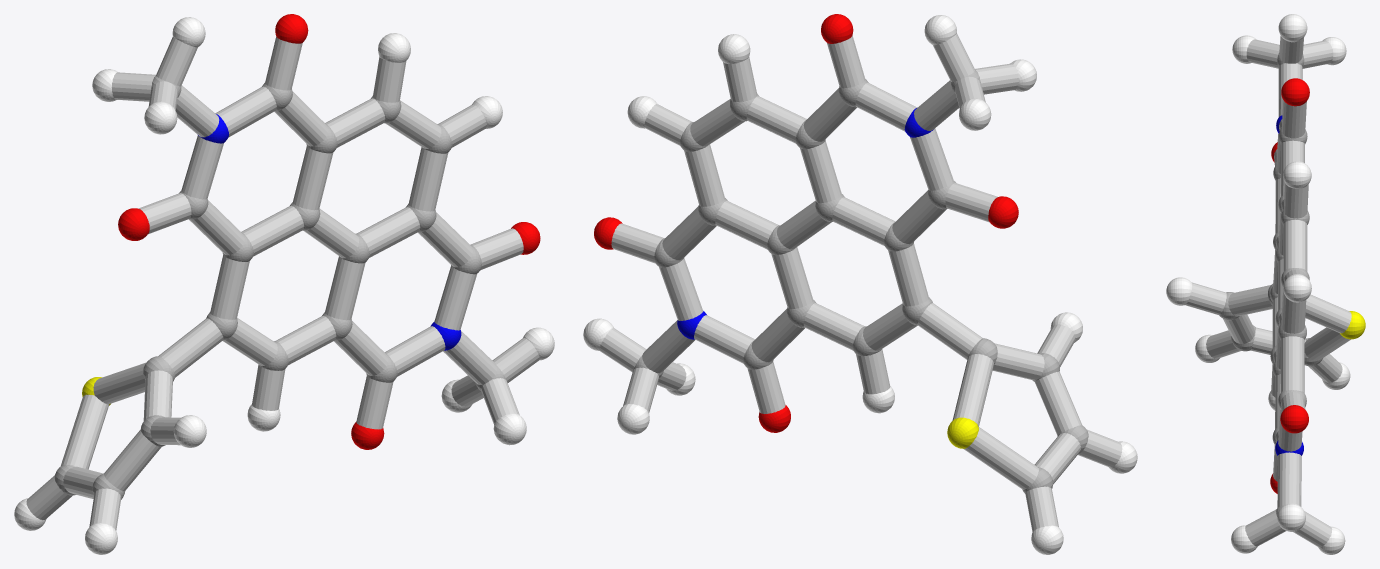
File: Dimethyl_Naphthalene_Dicarboximide_Phi_25_Theta_280_Thiophene.glb
3 views of the same model, side by side, from view 1: azimuth 30°, elevation 25°; view 2: azimuth 150°, elevation 25°; view 3: azimuth 270°, elevation 25° (orthographic). The views are drawn at different scales.
Parts seen in each view (by area): view 1: grp14119, grp7241, grp1, grp12309, grp11585; view 2: grp14119, grp7241, grp1, grp12309, grp13757, grp11585; view 3: grp14119, grp7241, grp1, grp12309, grp13757.
Part boxes in pixels (x1,y1,x2,y2): grp14119: [26, 36, 539, 530]; grp7241: [14, 17, 554, 554]; grp1: [54, 75, 506, 499]; grp12309: [118, 14, 540, 449]; grp11585: [198, 114, 461, 350]; grp14119: [599, 33, 1122, 532]; grp7241: [583, 15, 1137, 554]; grp1: [634, 70, 1088, 493]; grp12309: [594, 14, 1018, 432]; grp13757: [947, 417, 978, 448]; grp11585: [677, 108, 933, 339]; grp14119: [1185, 36, 1351, 547]; grp7241: [1166, 14, 1350, 554]; grp1: [1219, 53, 1322, 516]; grp12309: [1270, 78, 1309, 493]; grp13757: [1340, 311, 1365, 339].
Size of the model in its own units: 10.72 by 9.92 by 4.17.
